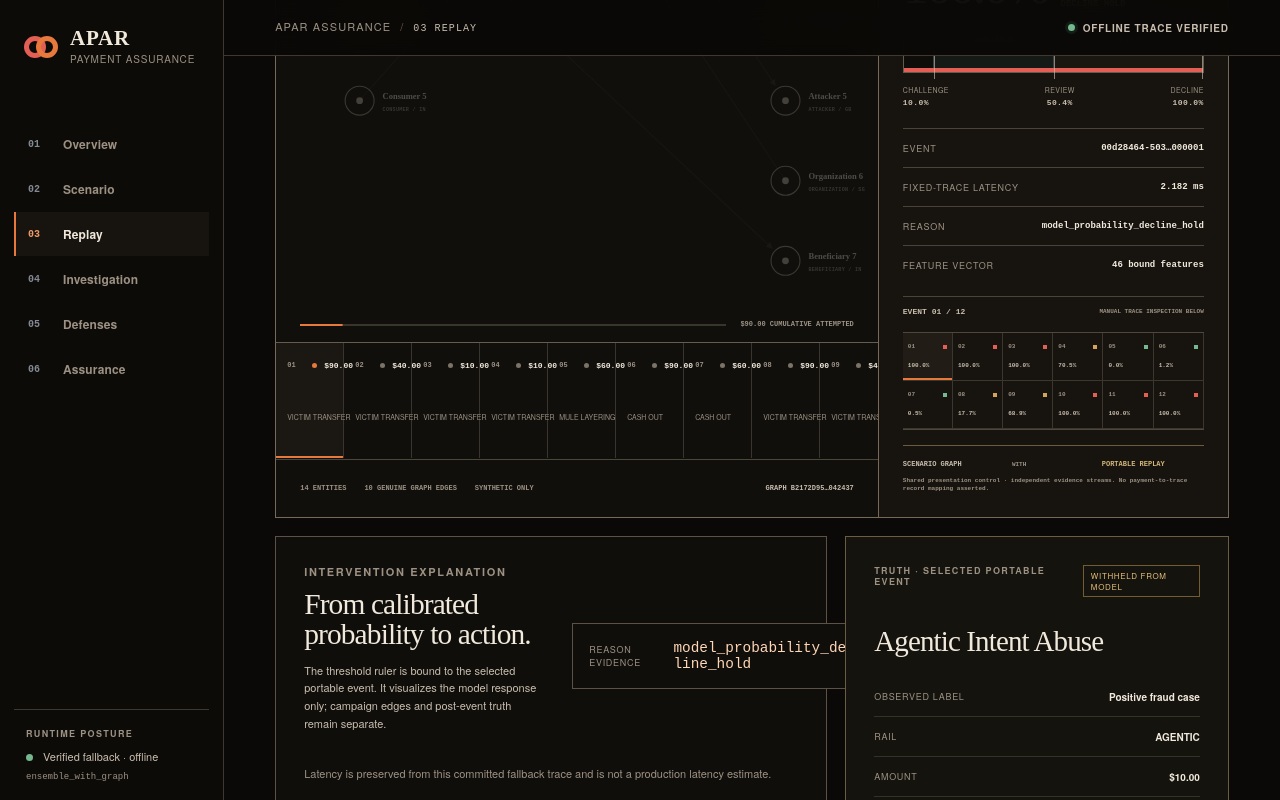
native route boundary › uses one transport to reset both evidence streams
(page scrolled)
Click the button "05 $60.00 Mule Layering". click: (582, 400)
box: [548,343,616,458]
(page scrolled)
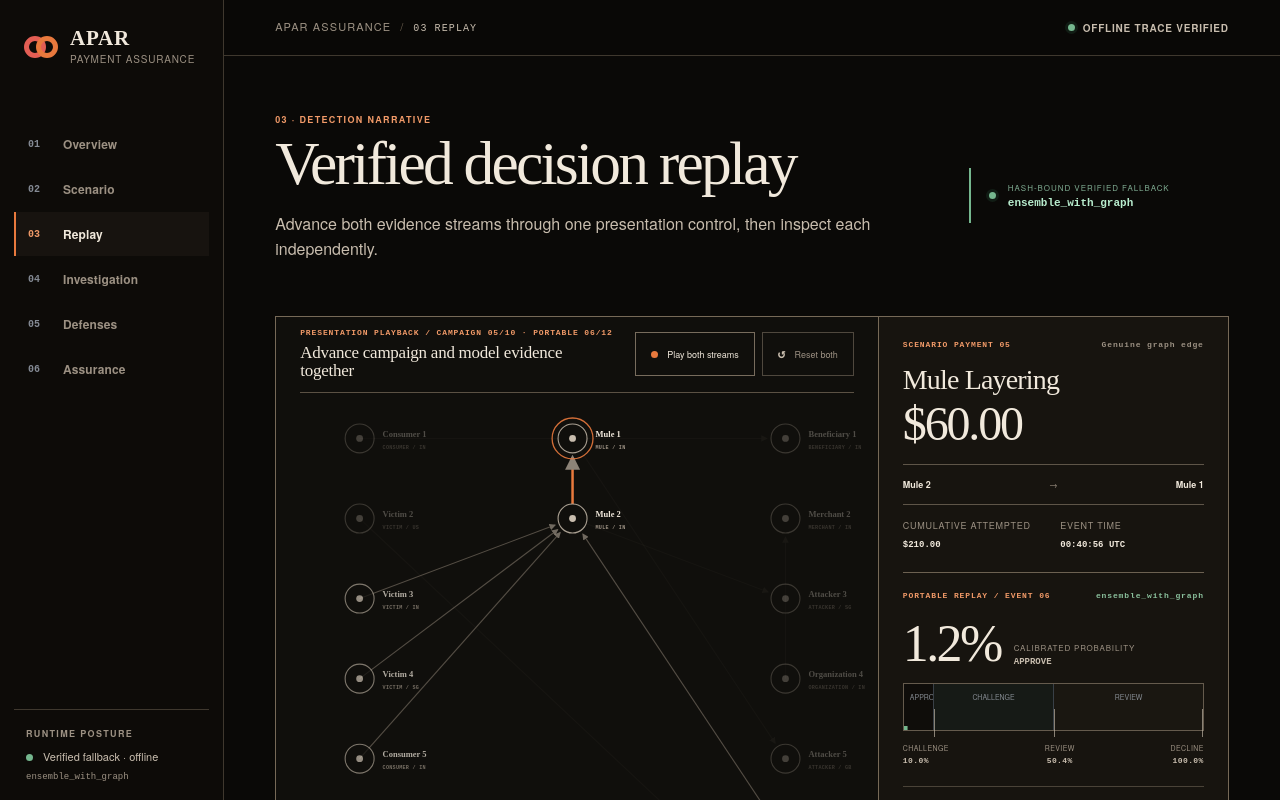
Check: the text "SCENARIO PAYMENT 05" is shown, box [903,341,1011,349]
Click the button with aria-label "Reset both streams". click: (808, 354)
box: [762,332,854,376]
(page scrolled)
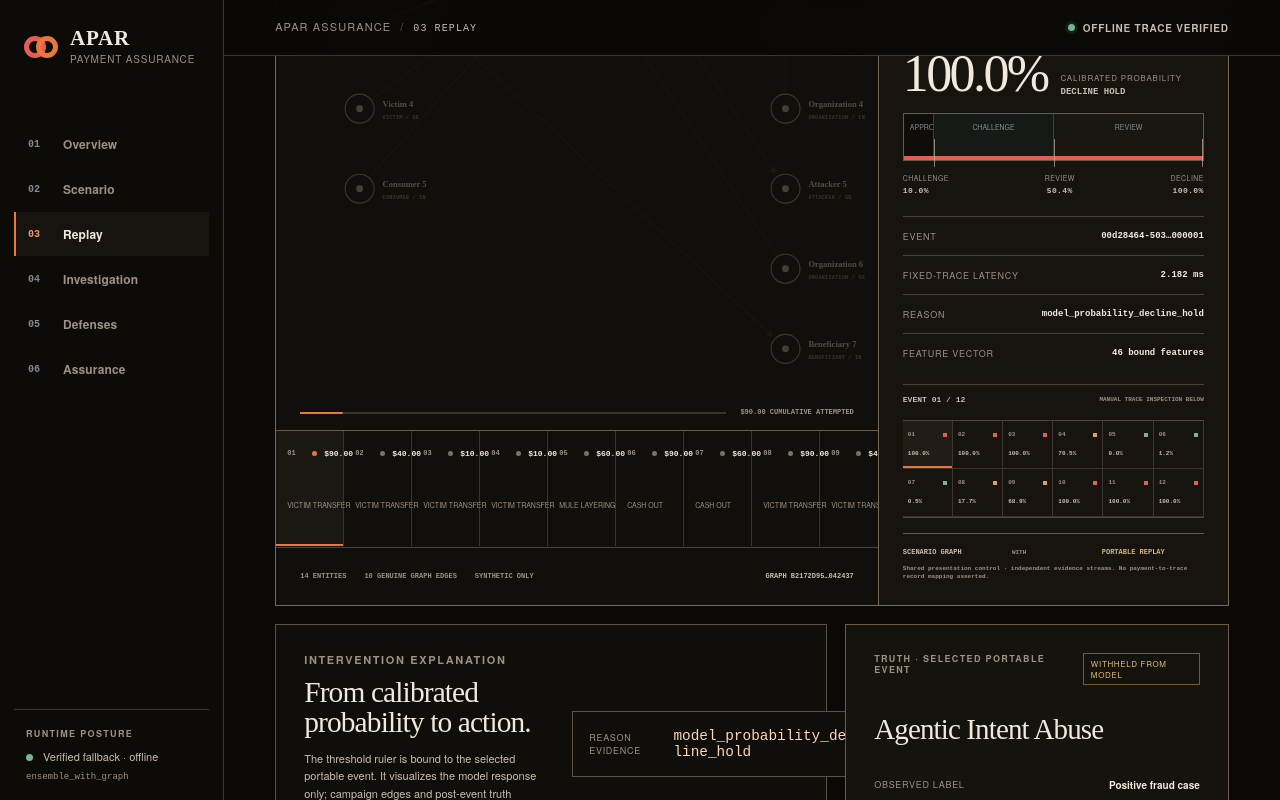
Check: the text "Event 01 / 12" is shown, box [903,396,965,404]
